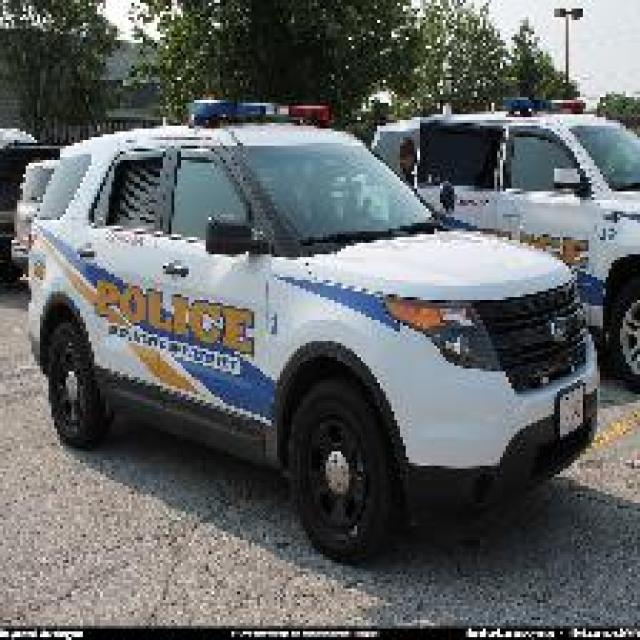Police-car: (23, 94, 600, 563)
